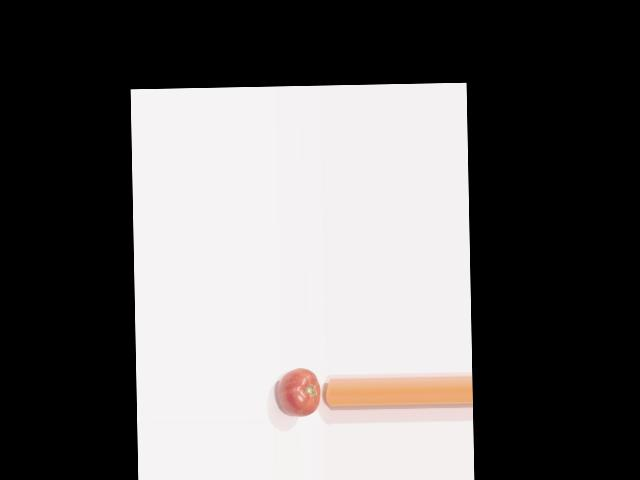tomato: (277, 367, 320, 416)
